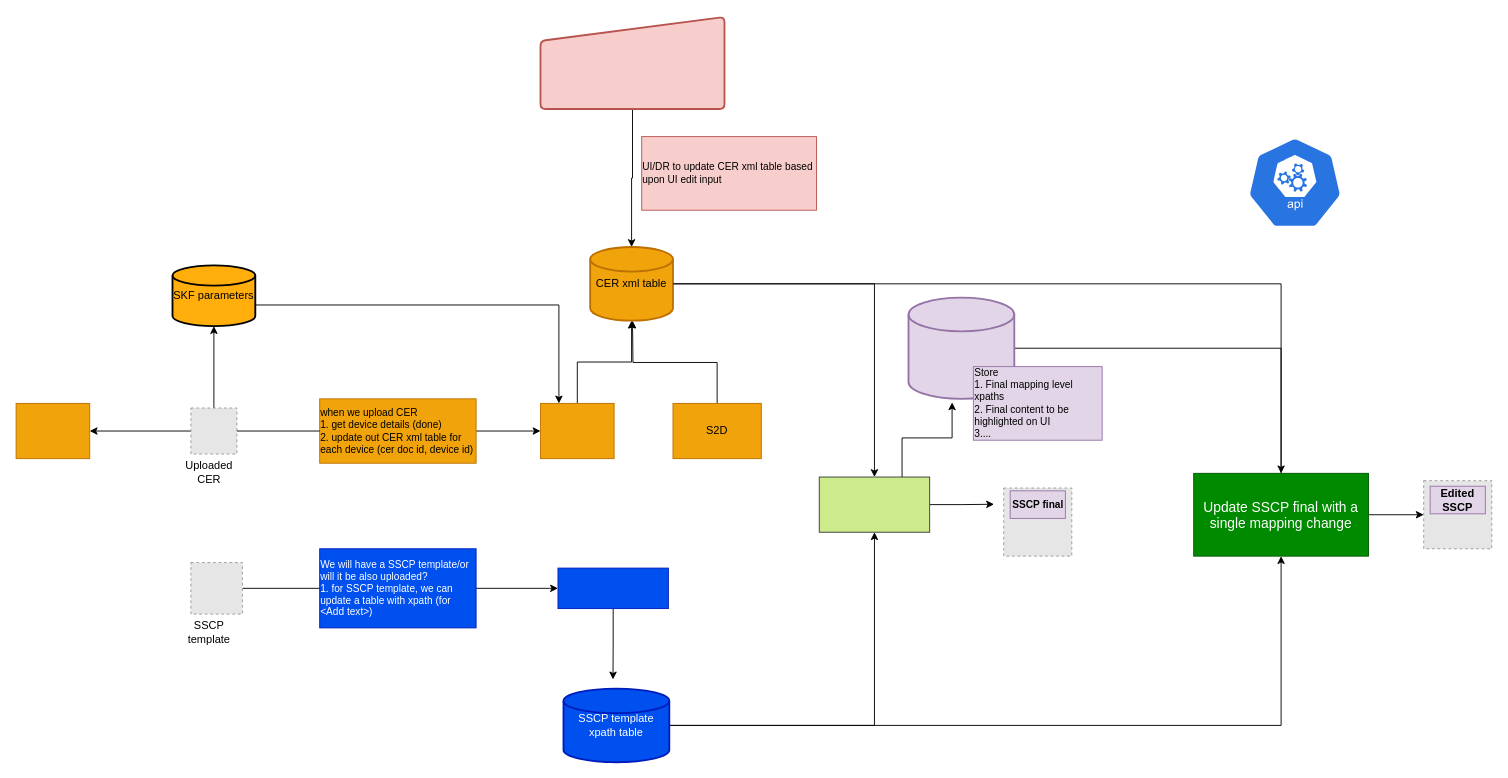
The diagram is 1508 pixels wide and 778 high, and some of its shapes have lost their labels. Grey dashed boxes stand in for pictures. Here are the shapes that lost their labels. From the top down, the centre of each, then its label:
At (x=632, y=62): "UI Edit input".
At (x=961, y=347): "updated SSCP xml table".
At (x=52, y=430): "SKF device list, group number table update".
At (x=577, y=430): "SKF".
At (x=874, y=504): "dest".
At (x=612, y=588): "DKF".
